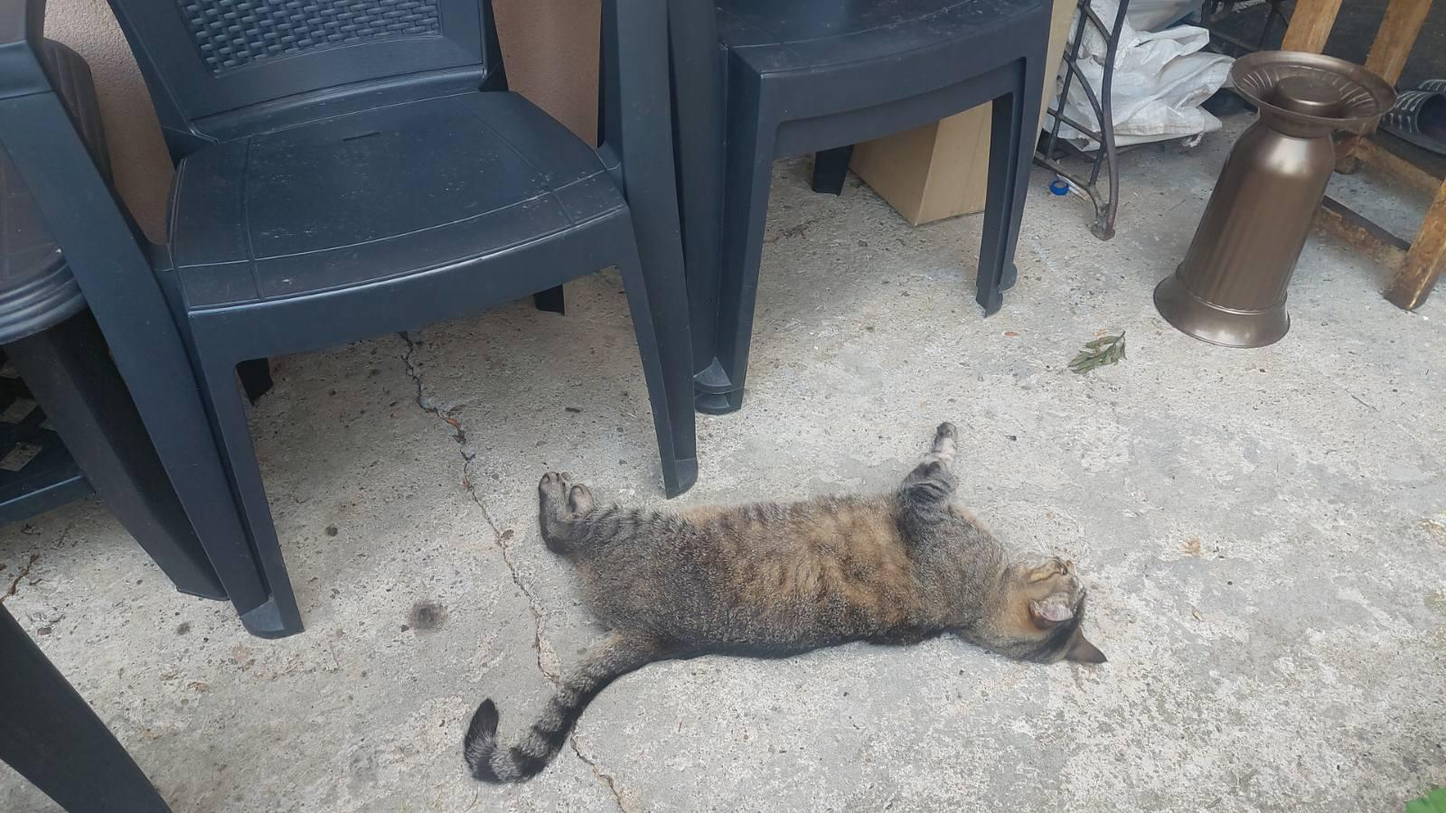macka: (464, 421, 1110, 782)
